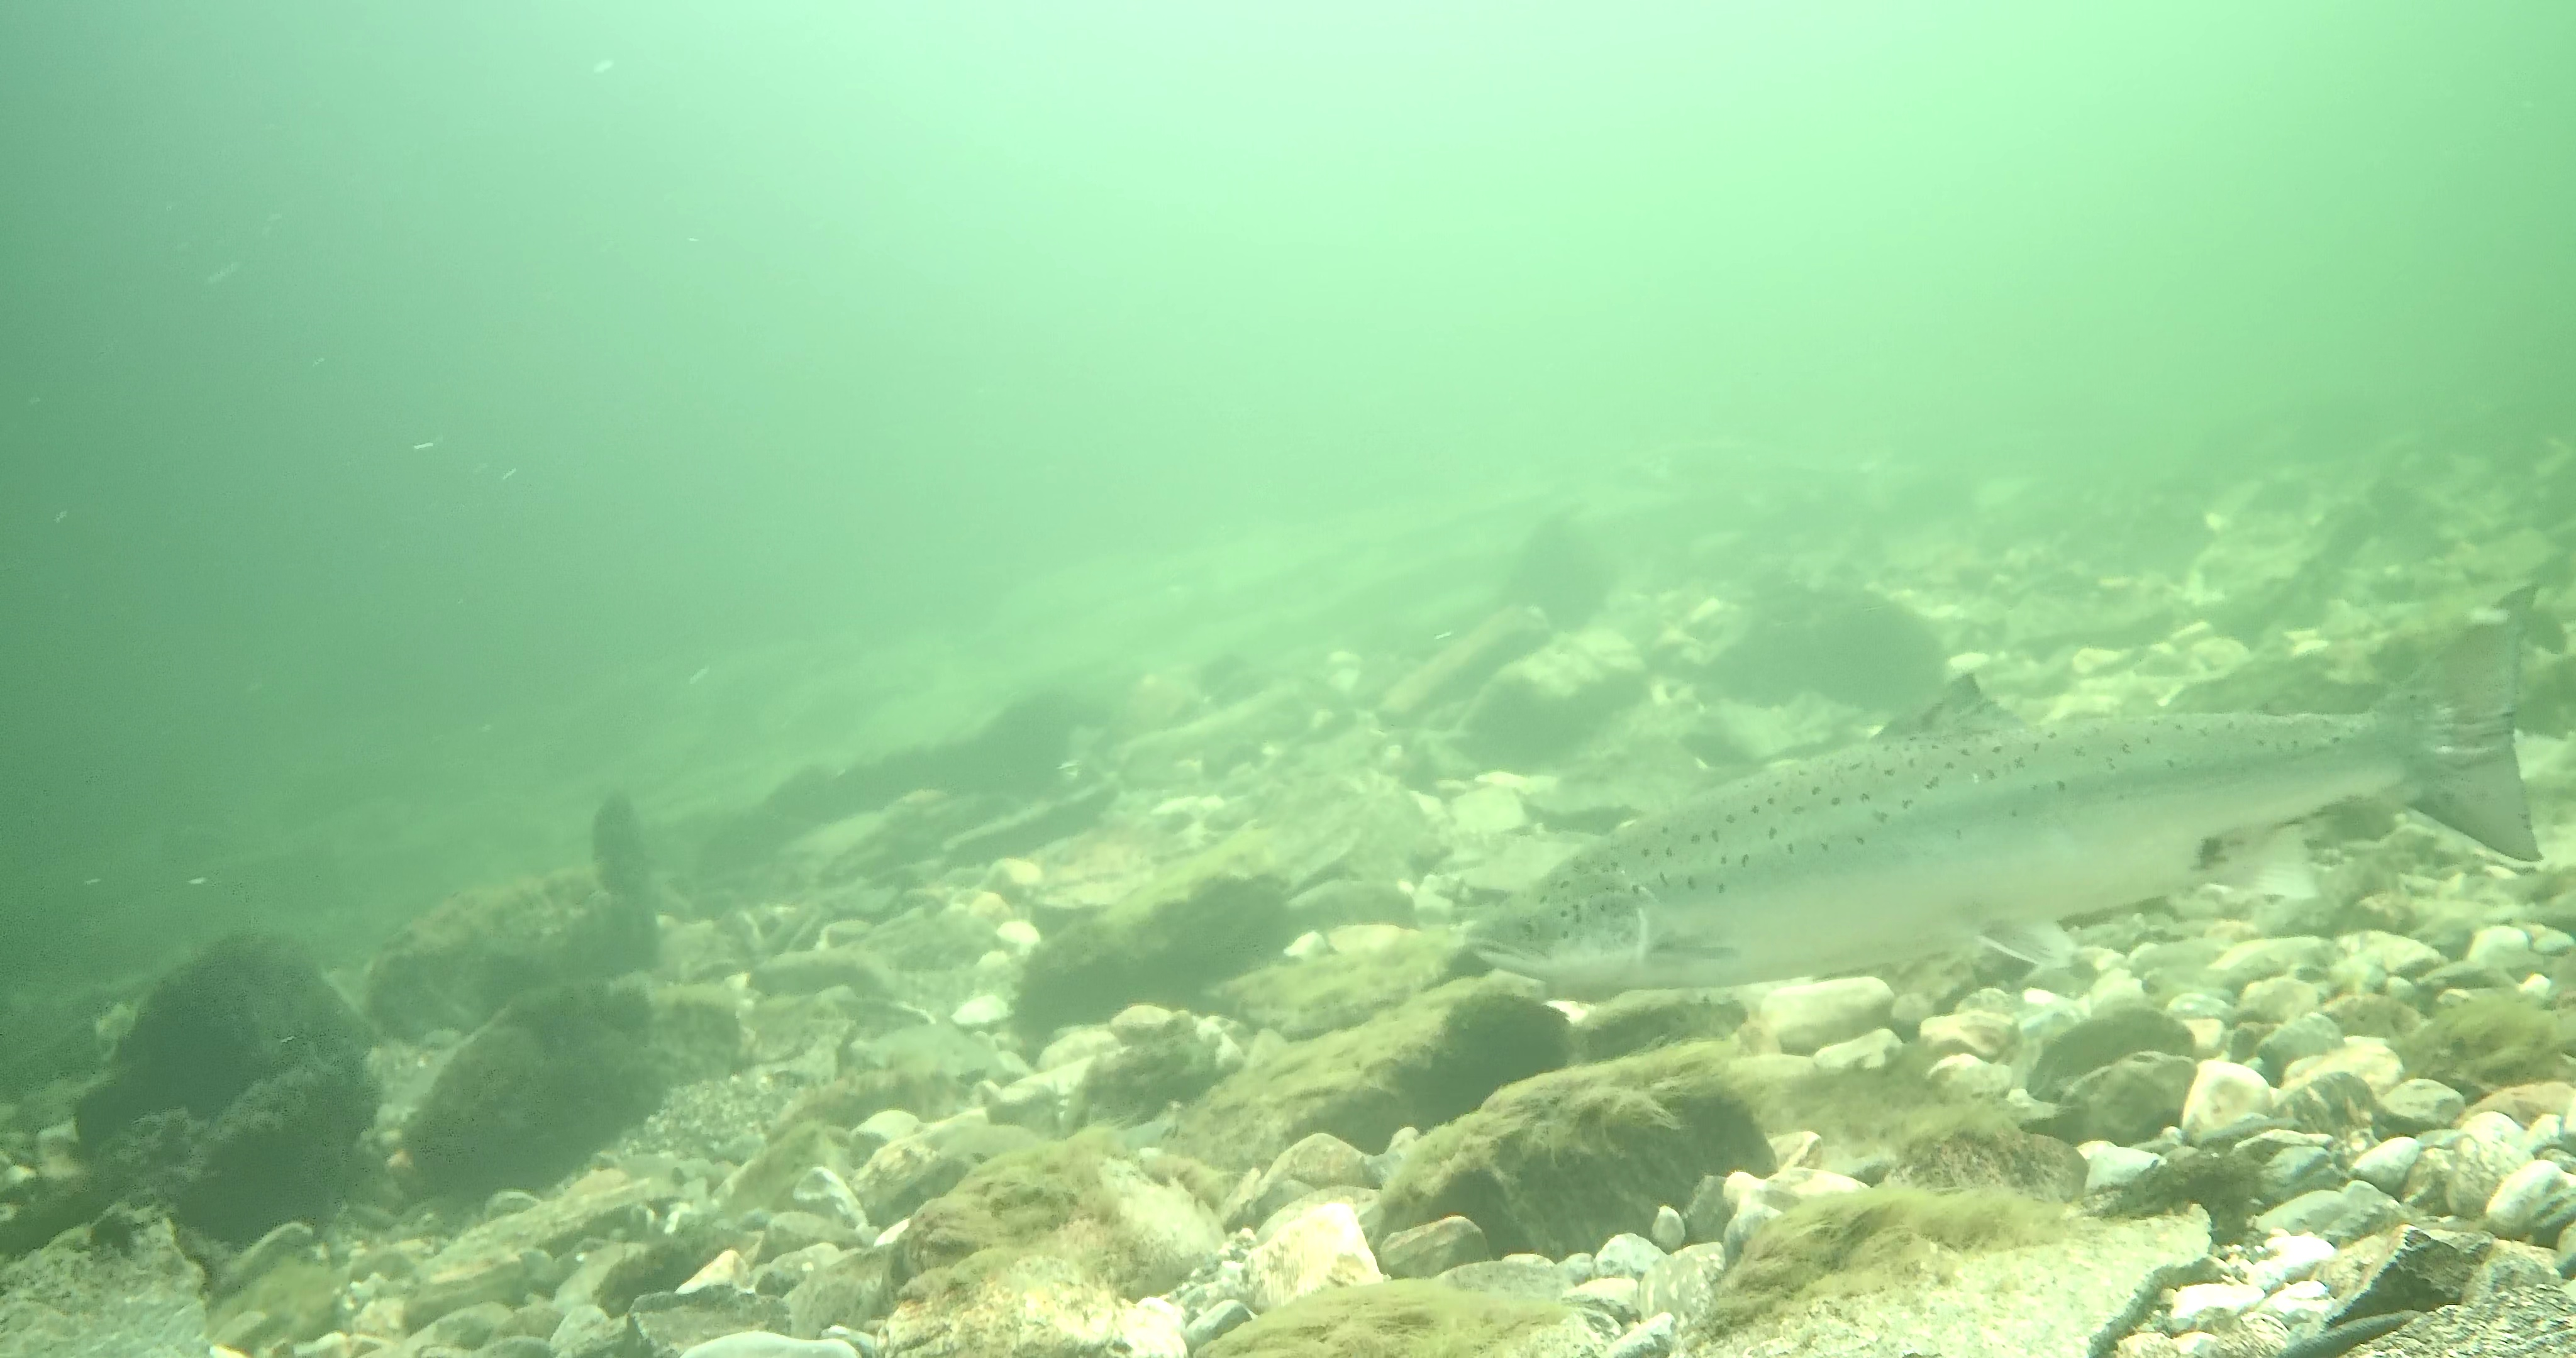salmon: (1452, 581, 2547, 1004)
